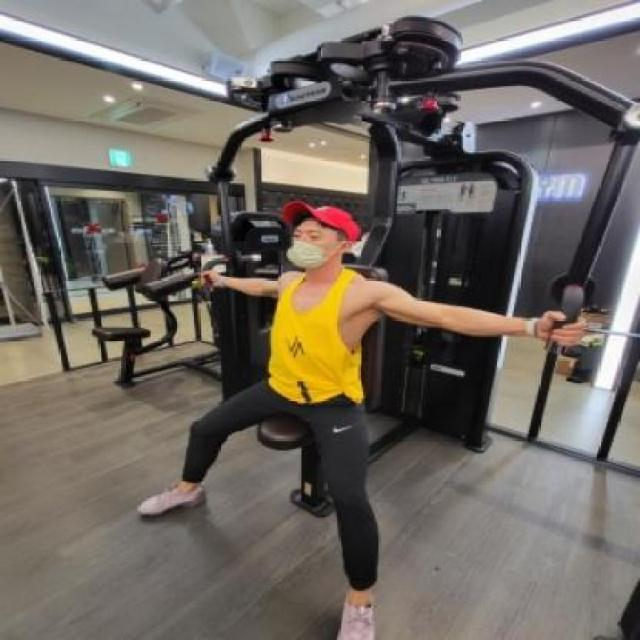chest fly machine: (111, 18, 640, 640)
